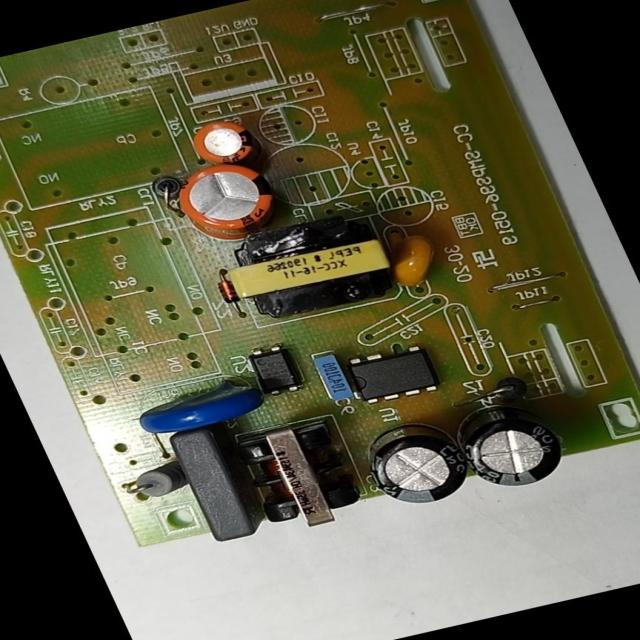Cap1: (166, 156, 288, 246)
Cap2: (183, 114, 260, 169)
Cap3: (351, 414, 479, 513)
Cap4: (444, 393, 576, 497)
MOSFET: (340, 341, 444, 408)
Mov: (128, 376, 271, 441)
Resistor: (112, 456, 191, 506)
Transformer: (209, 206, 409, 326), (220, 412, 376, 542)
